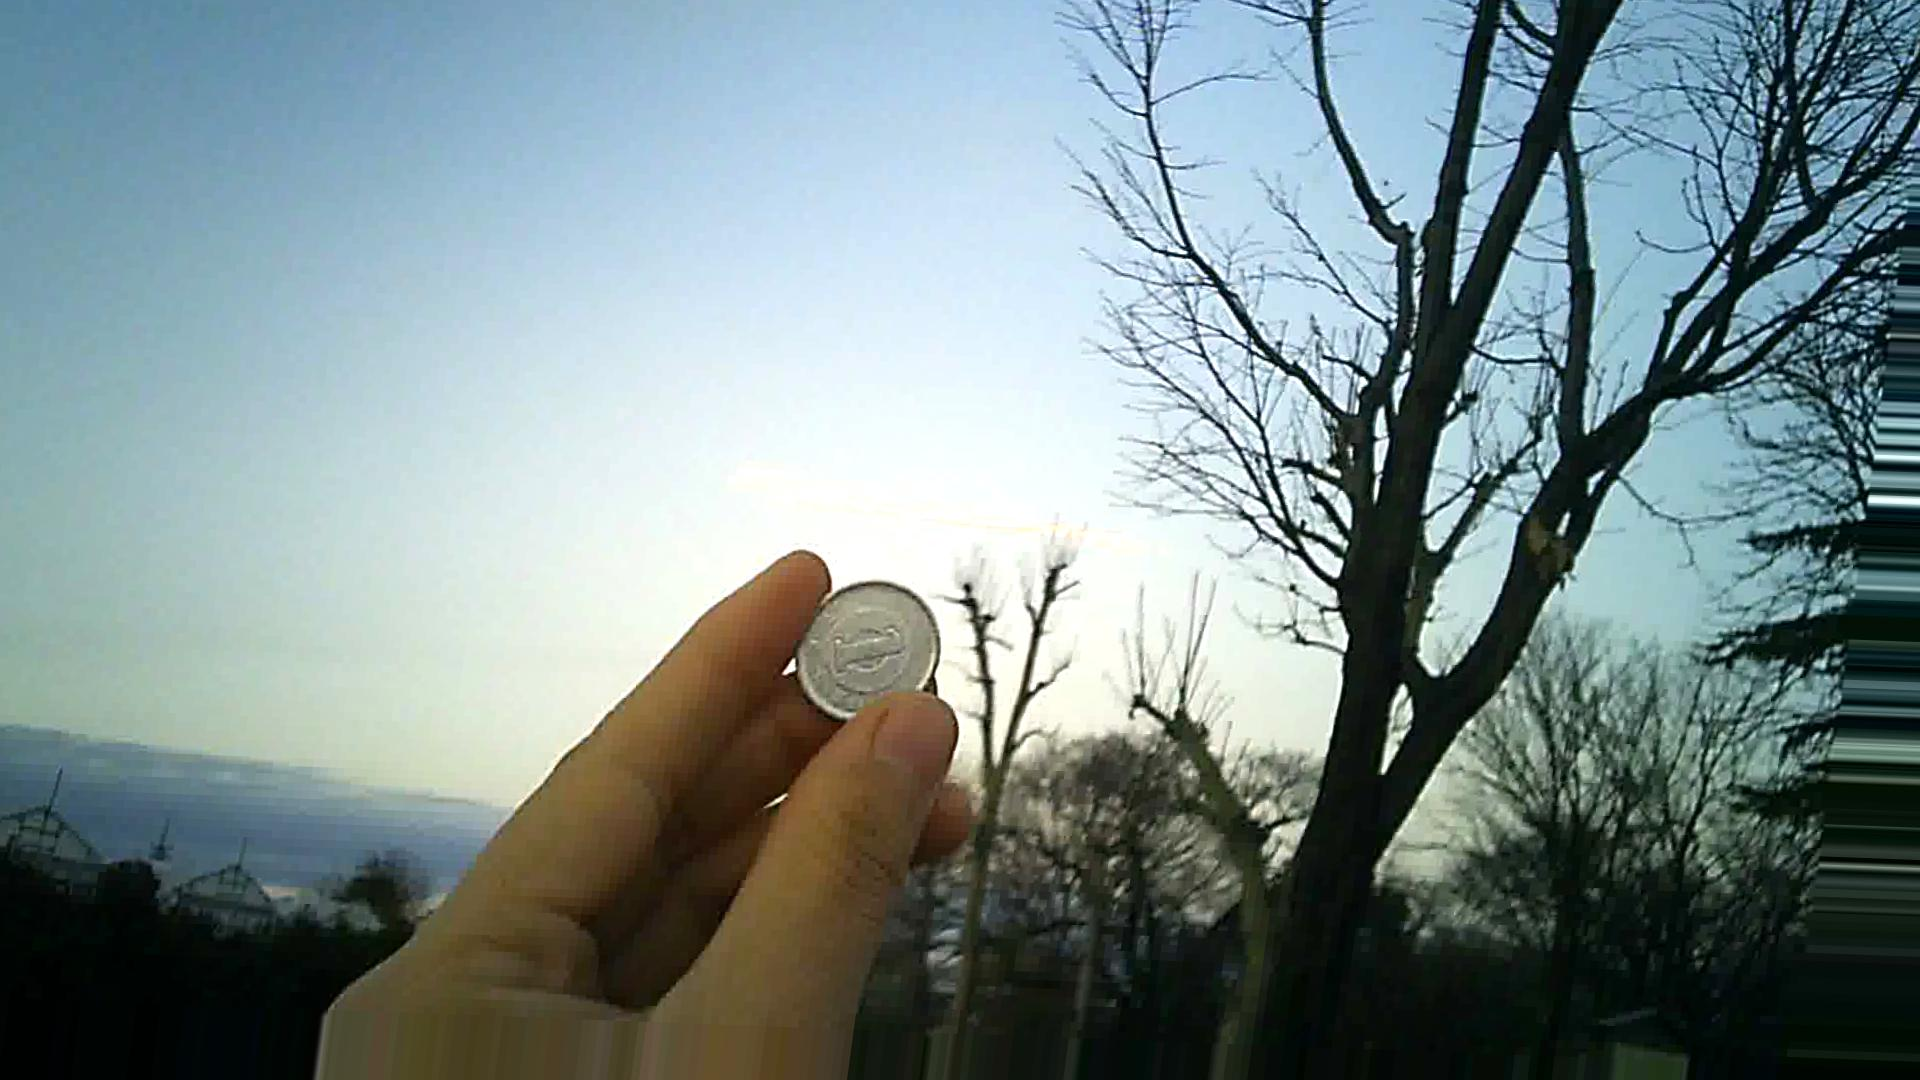1 Yen: (781, 568, 939, 740)
